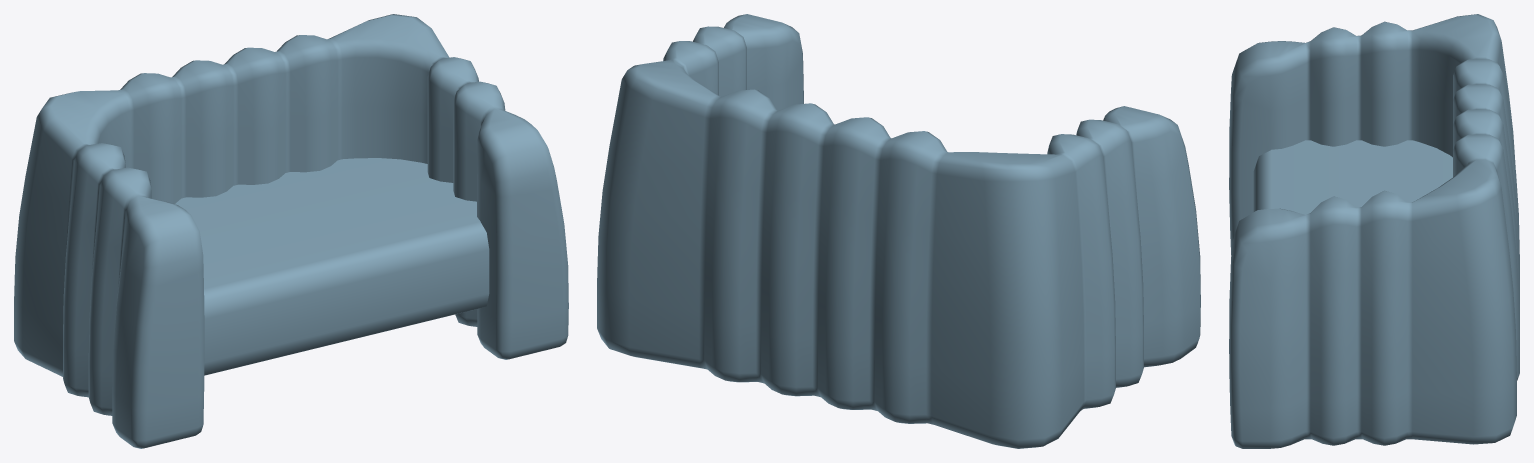
File: Chair_Couch_6.glb
3 views of the same model, side by side, from view 1: azimuth 30°, elevation 25°; view 2: azimuth 150°, elevation 25°; view 3: azimuth 270°, elevation 25° (orthographic). The views are drawn at different scales.
Parts seen in each view (by area): view 1: Couch_6; view 2: Couch_6; view 3: Couch_6.
Part boxes in pixels (x1=…): Couch_6: x1=14, y1=14, x2=568, y2=448; Couch_6: x1=597, y1=14, x2=1200, y2=448; Couch_6: x1=1229, y1=14, x2=1519, y2=448.
Size of the model in its own units: 2.17 by 1.2 by 1.27.
Materials: 1 (1 with a texture image).
